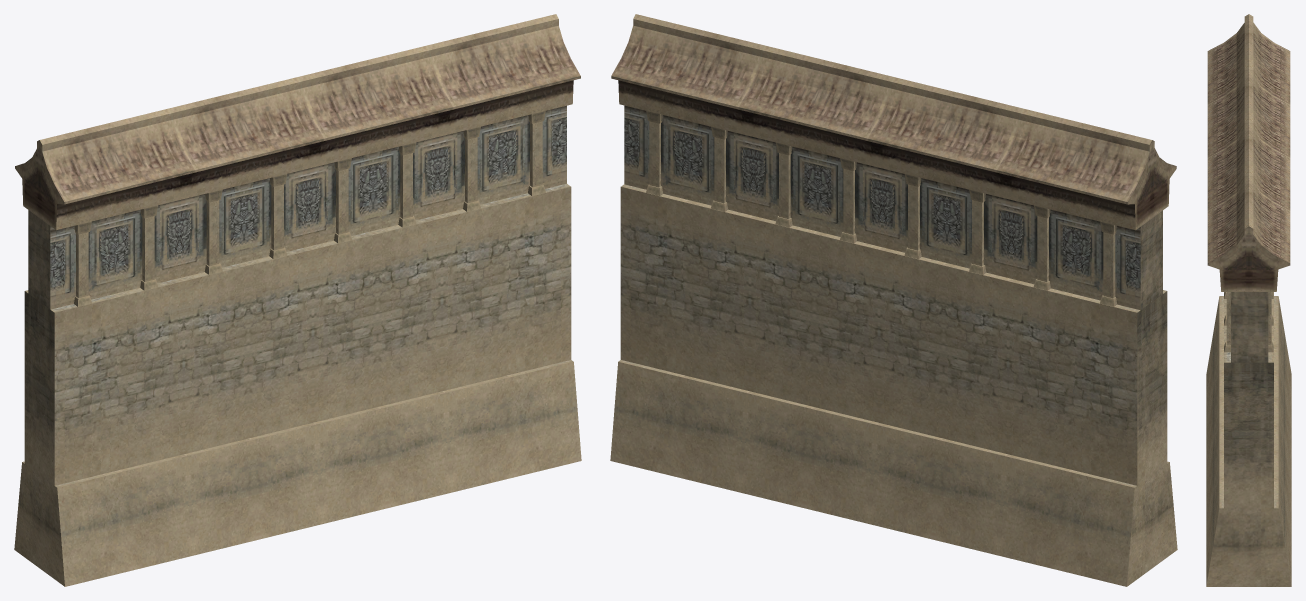
File: desert-middledam-02.fbx
The picture shows the model from 3 angles, left to right: view 1: azimuth 30°, elevation 25°; view 2: azimuth 150°, elevation 25°; view 3: azimuth 270°, elevation 25°; orthographic projection. The views are drawn at different scales.
Visible parts, largest first — view 1: desert-middledam-02; view 2: desert-middledam-02; view 3: desert-middledam-02.
Part boxes in pixels (<box>): desert-middledam-02: <box>14,14,581,586</box>; desert-middledam-02: <box>610,14,1177,586</box>; desert-middledam-02: <box>1206,14,1291,586</box>.
Bounding box in the file's own units: 10 × 7.92 × 1.7.
